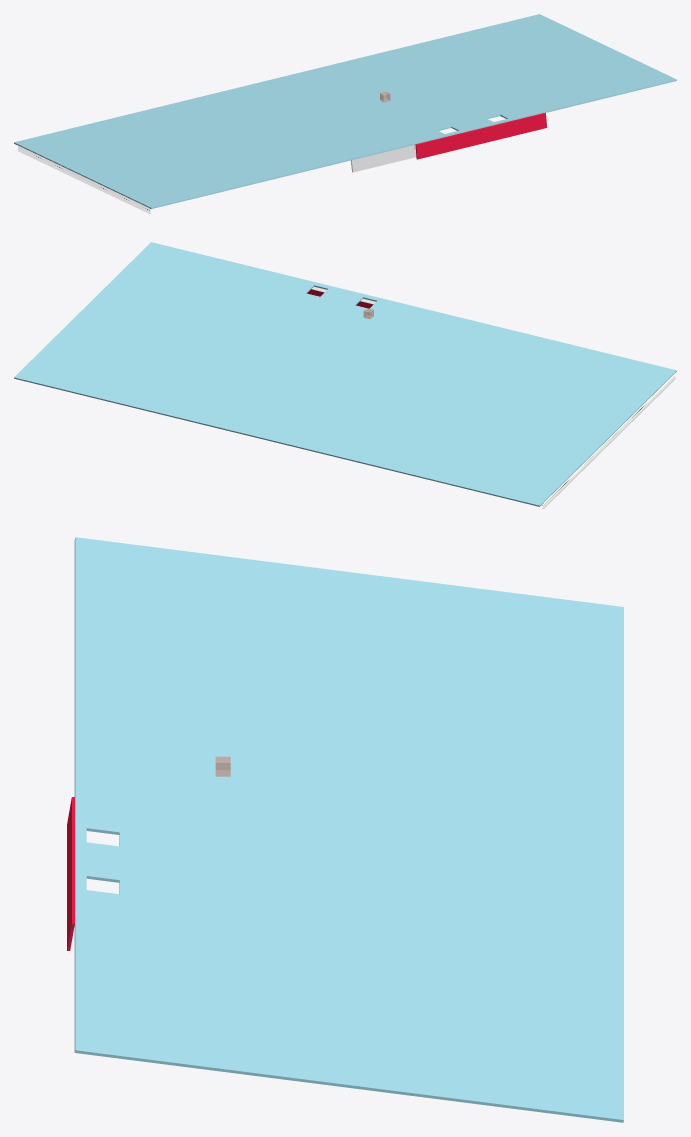
The model's file is ccg-from-floor-3.glb.
3 views of the same model, one above another, from view 1: azimuth 30°, elevation 25°; view 2: azimuth 150°, elevation 25°; view 3: azimuth 270°, elevation 25° (orthographic). The views are drawn at different scales.
Visible parts, largest first — view 1: IFC IfcSlab 17529, IFC IfcWall 1263, IFC IfcBeam 17137, IFC IfcWall 29529; view 2: IFC IfcSlab 17529, IFC IfcBeam 17137; view 3: IFC IfcSlab 17529, IFC IfcWall 1263.
Part boxes in pixels (left/top/right/bottom): IFC IfcSlab 17529: left=14, top=14, right=676, bottom=209; IFC IfcWall 1263: left=415, top=113, right=547, bottom=159; IFC IfcBeam 17137: left=17, top=145, right=151, bottom=213; IFC IfcWall 29529: left=351, top=145, right=416, bottom=172; IFC IfcSlab 17529: left=14, top=242, right=676, bottom=506; IFC IfcBeam 17137: left=542, top=373, right=675, bottom=508; IFC IfcSlab 17529: left=74, top=537, right=623, bottom=1122; IFC IfcWall 1263: left=67, top=797, right=74, bottom=950.
Bounding box in the file's own units: 40.14 × 7 × 18.39.
